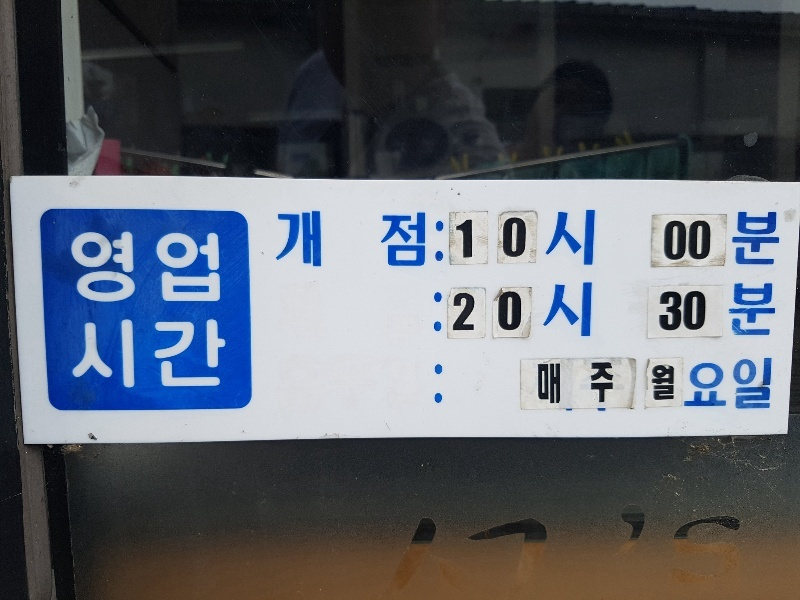text: (417, 498, 432, 600), (433, 498, 448, 600), (449, 498, 464, 600), (465, 498, 480, 600), (481, 498, 496, 600), (497, 498, 512, 600), (513, 498, 528, 600), (529, 498, 544, 600), (545, 498, 560, 600), (561, 498, 576, 600), (577, 498, 592, 600), (593, 498, 608, 600), (609, 498, 624, 600), (625, 498, 640, 600), (641, 498, 656, 600), (657, 498, 672, 600), (673, 498, 688, 600), (689, 498, 704, 600), (705, 498, 720, 600), (721, 498, 736, 600), (209, 228, 225, 307), (81, 228, 96, 307), (97, 228, 112, 307), (113, 228, 128, 307), (129, 228, 144, 307), (145, 228, 160, 307), (161, 228, 176, 307), (177, 228, 192, 307), (193, 228, 208, 307), (81, 319, 96, 390), (97, 319, 112, 390), (113, 319, 128, 390), (129, 319, 144, 390), (145, 319, 160, 390), (161, 319, 176, 390), (177, 319, 192, 390), (193, 319, 208, 390), (209, 319, 224, 390), (273, 209, 288, 275), (289, 209, 304, 275), (305, 209, 320, 275), (321, 209, 336, 275), (337, 209, 352, 275), (353, 209, 368, 275), (369, 209, 384, 275), (385, 209, 400, 275), (401, 209, 416, 275), (673, 205, 688, 271), (689, 205, 704, 271), (705, 205, 720, 271), (721, 205, 736, 271), (737, 205, 752, 271), (753, 205, 768, 271), (68, 228, 80, 307), (769, 205, 783, 271), (705, 355, 720, 416), (721, 355, 736, 416), (737, 355, 752, 416), (753, 355, 768, 416), (673, 279, 688, 339), (689, 279, 704, 339), (705, 279, 720, 339), (721, 279, 736, 339), (737, 279, 752, 339), (753, 279, 768, 339), (465, 208, 480, 266), (481, 208, 496, 266), (497, 208, 512, 266), (513, 208, 528, 266), (529, 208, 544, 266), (545, 208, 560, 266), (561, 208, 576, 266), (577, 208, 592, 266), (465, 280, 480, 338), (481, 280, 496, 338), (497, 280, 512, 338), (513, 280, 528, 338), (529, 280, 544, 338), (545, 280, 560, 338), (561, 280, 576, 338), (577, 280, 592, 338), (658, 279, 672, 339), (545, 358, 560, 411), (561, 358, 576, 411), (577, 358, 592, 411), (593, 358, 608, 411), (609, 358, 624, 411), (625, 358, 640, 411), (641, 358, 656, 411), (657, 358, 672, 411), (417, 209, 429, 275), (692, 355, 704, 416), (452, 280, 464, 338), (434, 221, 448, 265), (434, 290, 448, 334), (737, 498, 743, 600), (769, 279, 779, 339), (454, 208, 464, 266), (435, 365, 448, 407), (664, 205, 672, 271), (73, 319, 80, 390), (536, 358, 544, 411), (769, 355, 775, 416), (593, 208, 598, 266), (673, 358, 677, 411), (414, 498, 416, 600), (225, 319, 227, 390), (593, 280, 594, 338)
